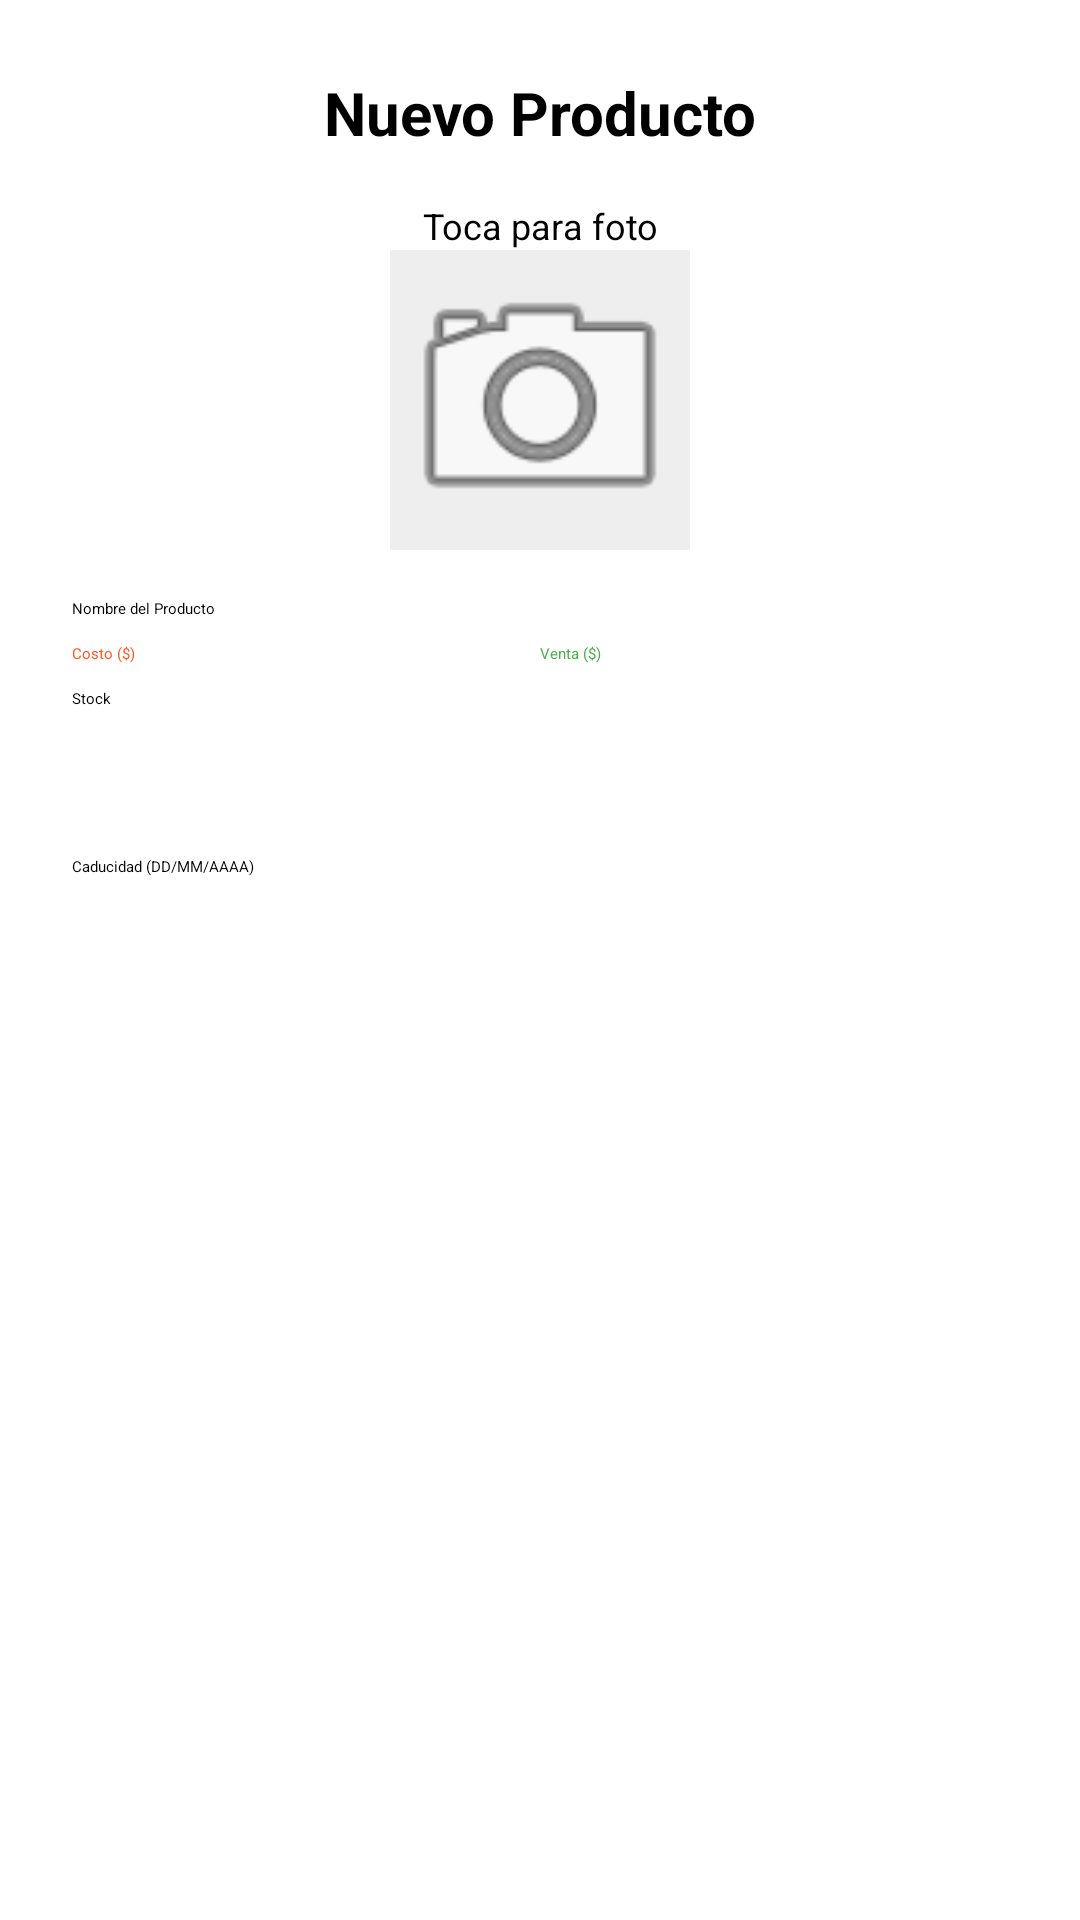

Icon bounding boxes for this 1080px×1920px phone screenshot, format Rect(x1, y1, x2, y2):
camera: Rect(390, 250, 690, 550)
